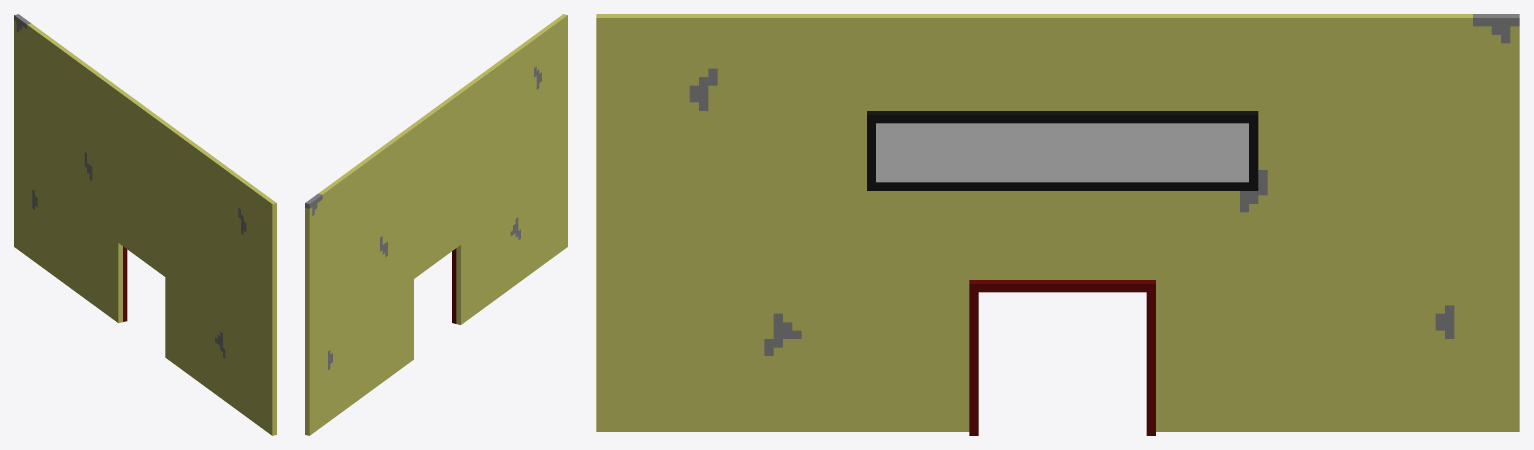
The model's file is --4-Est wall.obj.
The picture shows the model from 3 angles, left to right: view 1: azimuth 30°, elevation 25°; view 2: azimuth 150°, elevation 25°; view 3: azimuth 270°, elevation 25°; orthographic projection. The views are drawn at different scales.
Visible parts, largest first — view 1: Est wall; view 2: Est wall; view 3: Est wall.
Part boxes in pixels (<box>): Est wall: <box>14,14,276,435</box>; Est wall: <box>305,14,567,435</box>; Est wall: <box>596,14,1519,435</box>.
Bounding box in the file's own units: 0.2 × 4.9 × 9.9.
